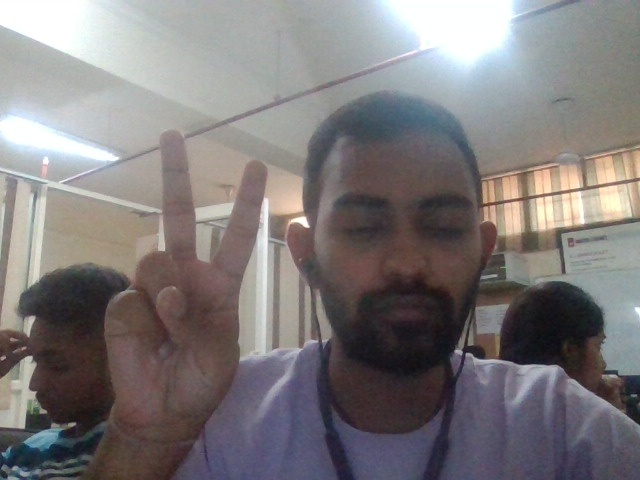ThankYou: (105, 126, 268, 439)
